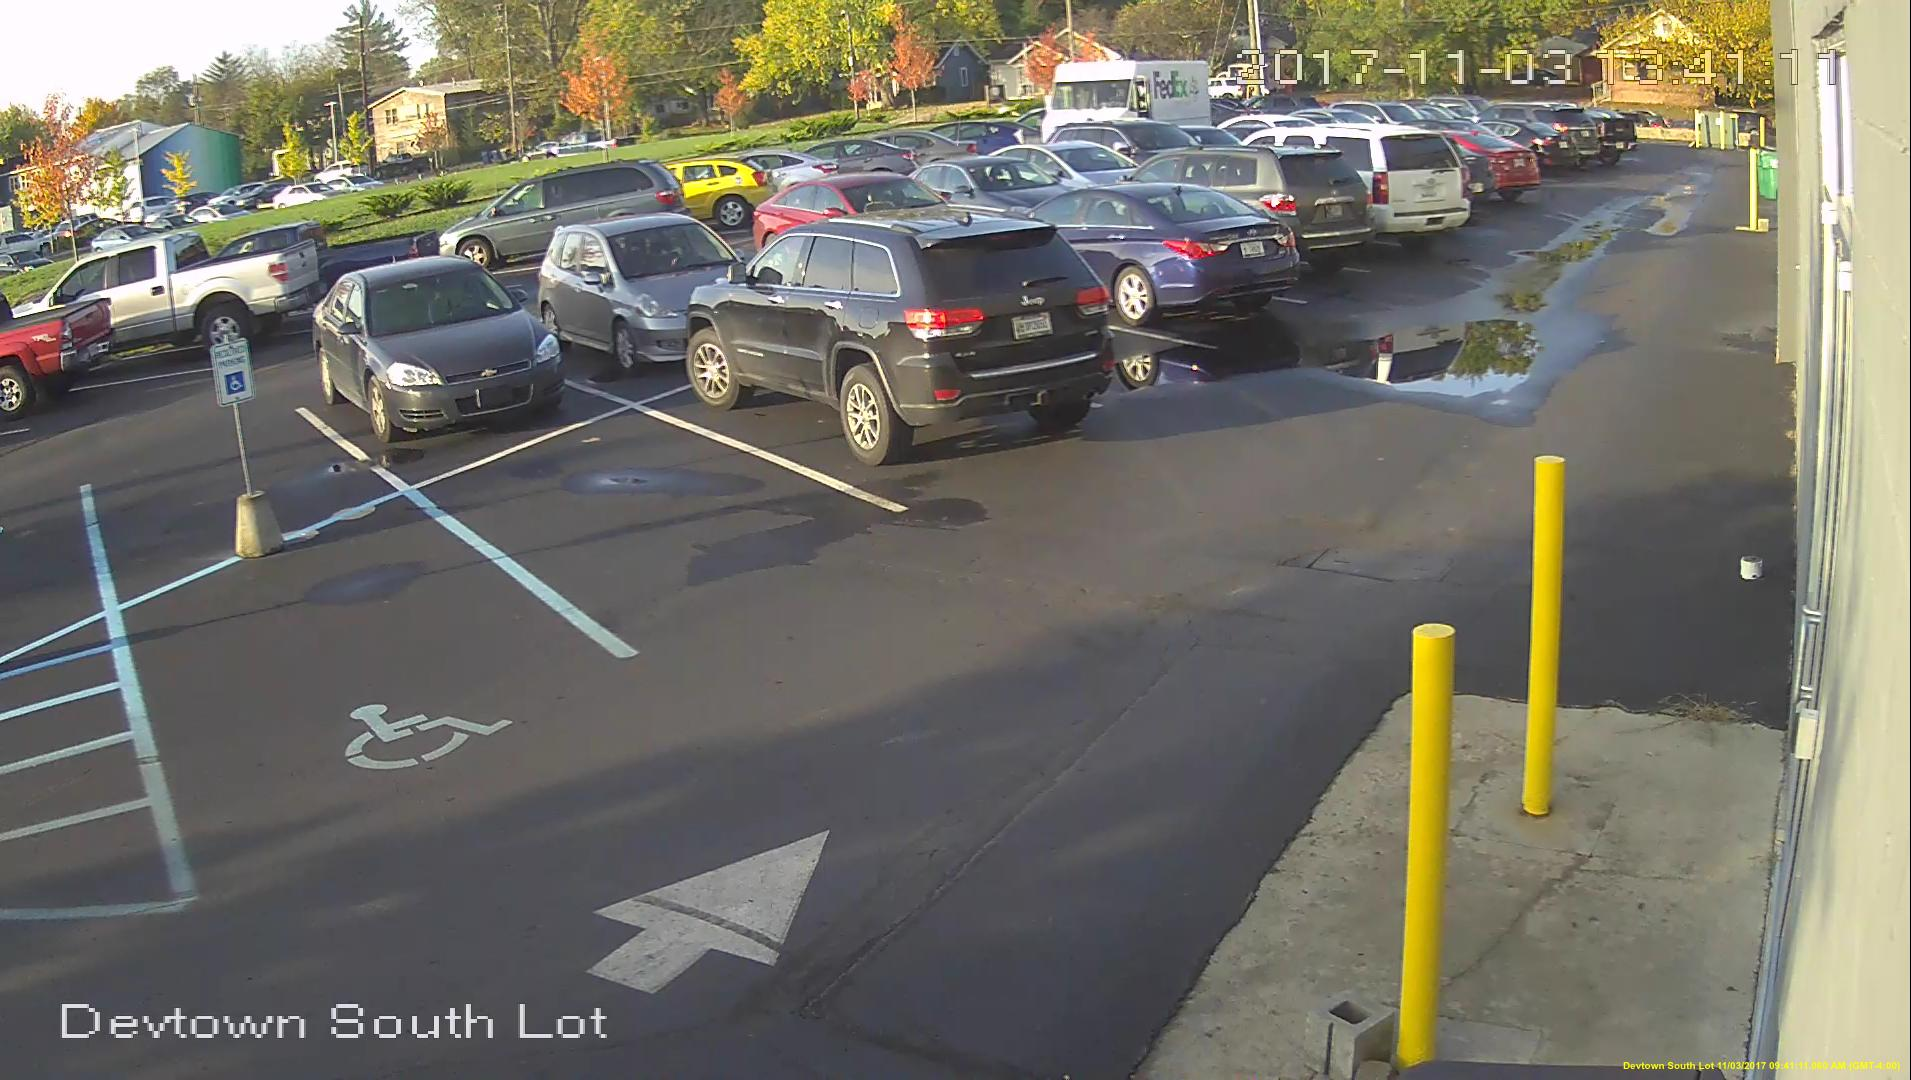fedex_truck: (1036, 58, 1215, 135)
